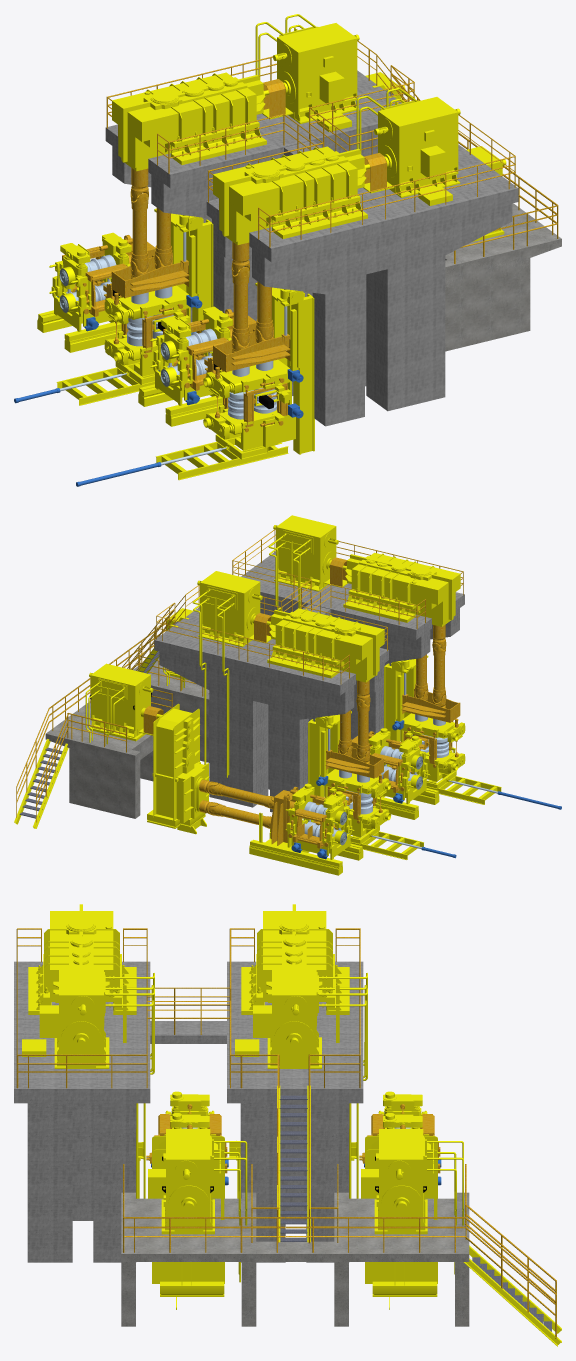
File: cuzha1s.gltf
3 renders of one model, top to bottom at view 1: azimuth 30°, elevation 25°; view 2: azimuth 150°, elevation 25°; view 3: azimuth 270°, elevation 25°, orthographic. The views are drawn at different scales.
Parts seen in each view (by area): view 1: 3棒_粗轧机005, 3棒_粗轧机028, 3棒_粗轧机008, 3棒_粗轧机006, 3棒_粗轧机026_1, 3棒_粗轧机026, 3棒_粗轧机018_1, 3棒_粗轧机001, 3棒_粗轧机025, 3棒_粗轧机018, 3棒_粗轧机009, 3棒_粗轧机020 (+9 smaller); view 2: 3棒_粗轧机005, 3棒_粗轧机028, 3棒_粗轧机008, 3棒_粗轧机006, 3棒_粗轧机002, 3棒_粗轧机004, 3棒_粗轧机001, 3棒_粗轧机001_1, 3棒_粗轧机026_1, 3棒_粗轧机018_1, 3棒_粗轧机025, 3棒_粗轧机026 (+10 smaller); view 3: 3棒_粗轧机005, 3棒_粗轧机028, 3棒_粗轧机004, 3棒_粗轧机002, 3棒_粗轧机008, 3棒_粗轧机006, 3棒_粗轧机025, 3棒_粗轧机001, 3棒_粗轧机015.
Boxes of the visible parts, <box> form: 3棒_粗轧机005: <box>105,41,561,426</box>; 3棒_粗轧机028: <box>255,14,460,205</box>; 3棒_粗轧机008: <box>213,146,367,245</box>; 3棒_粗轧机006: <box>112,72,266,171</box>; 3棒_粗轧机026_1: <box>213,283,314,454</box>; 3棒_粗轧机026: <box>203,358,295,450</box>; 3棒_粗轧机018_1: <box>111,208,213,355</box>; 3棒_粗轧机001: <box>49,232,132,331</box>; 3棒_粗轧机025: <box>150,306,233,405</box>; 3棒_粗轧机018: <box>104,284,190,376</box>; 3棒_粗轧机009: <box>156,434,288,480</box>; 3棒_粗轧机020: <box>56,360,154,405</box>; 3棒_粗轧机005: <box>14,529,464,828</box>; 3棒_粗轧机028: <box>192,515,347,777</box>; 3棒_粗轧机008: <box>343,552,460,626</box>; 3棒_粗轧机006: <box>267,608,384,682</box>; 3棒_粗轧机002: <box>147,703,209,834</box>; 3棒_粗轧机004: <box>85,608,193,745</box>; 3棒_粗轧机001: <box>285,783,354,859</box>; 3棒_粗轧机001_1: <box>249,786,363,875</box>; 3棒_粗轧机026_1: <box>384,655,460,742</box>; 3棒_粗轧机018_1: <box>308,711,383,797</box>; 3棒_粗轧机025: <box>368,728,430,804</box>; 3棒_粗轧机026: <box>394,712,465,781</box>; 3棒_粗轧机005: <box>14,928,561,1346</box>; 3棒_粗轧机028: <box>22,965,367,1198</box>; 3棒_粗轧机004: <box>148,1129,463,1282</box>; 3棒_粗轧机002: <box>152,1136,437,1309</box>; 3棒_粗轧机008: <box>28,904,136,1014</box>; 3棒_粗轧机006: <box>241,904,349,1014</box>; 3棒_粗轧机025: <box>146,1091,227,1173</box>; 3棒_粗轧机001: <box>359,1091,440,1173</box>; 3棒_粗轧机015: <box>138,1140,356,1198</box>.
Bounding box in the file's own units: 17.21 × 9.82 × 15.41.
Materials: 15 (15 with a texture image).
